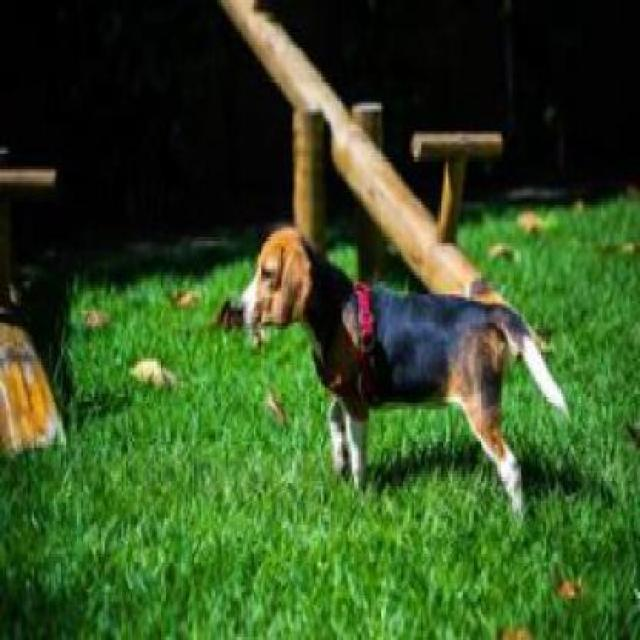Dog: (235, 226, 580, 528)
